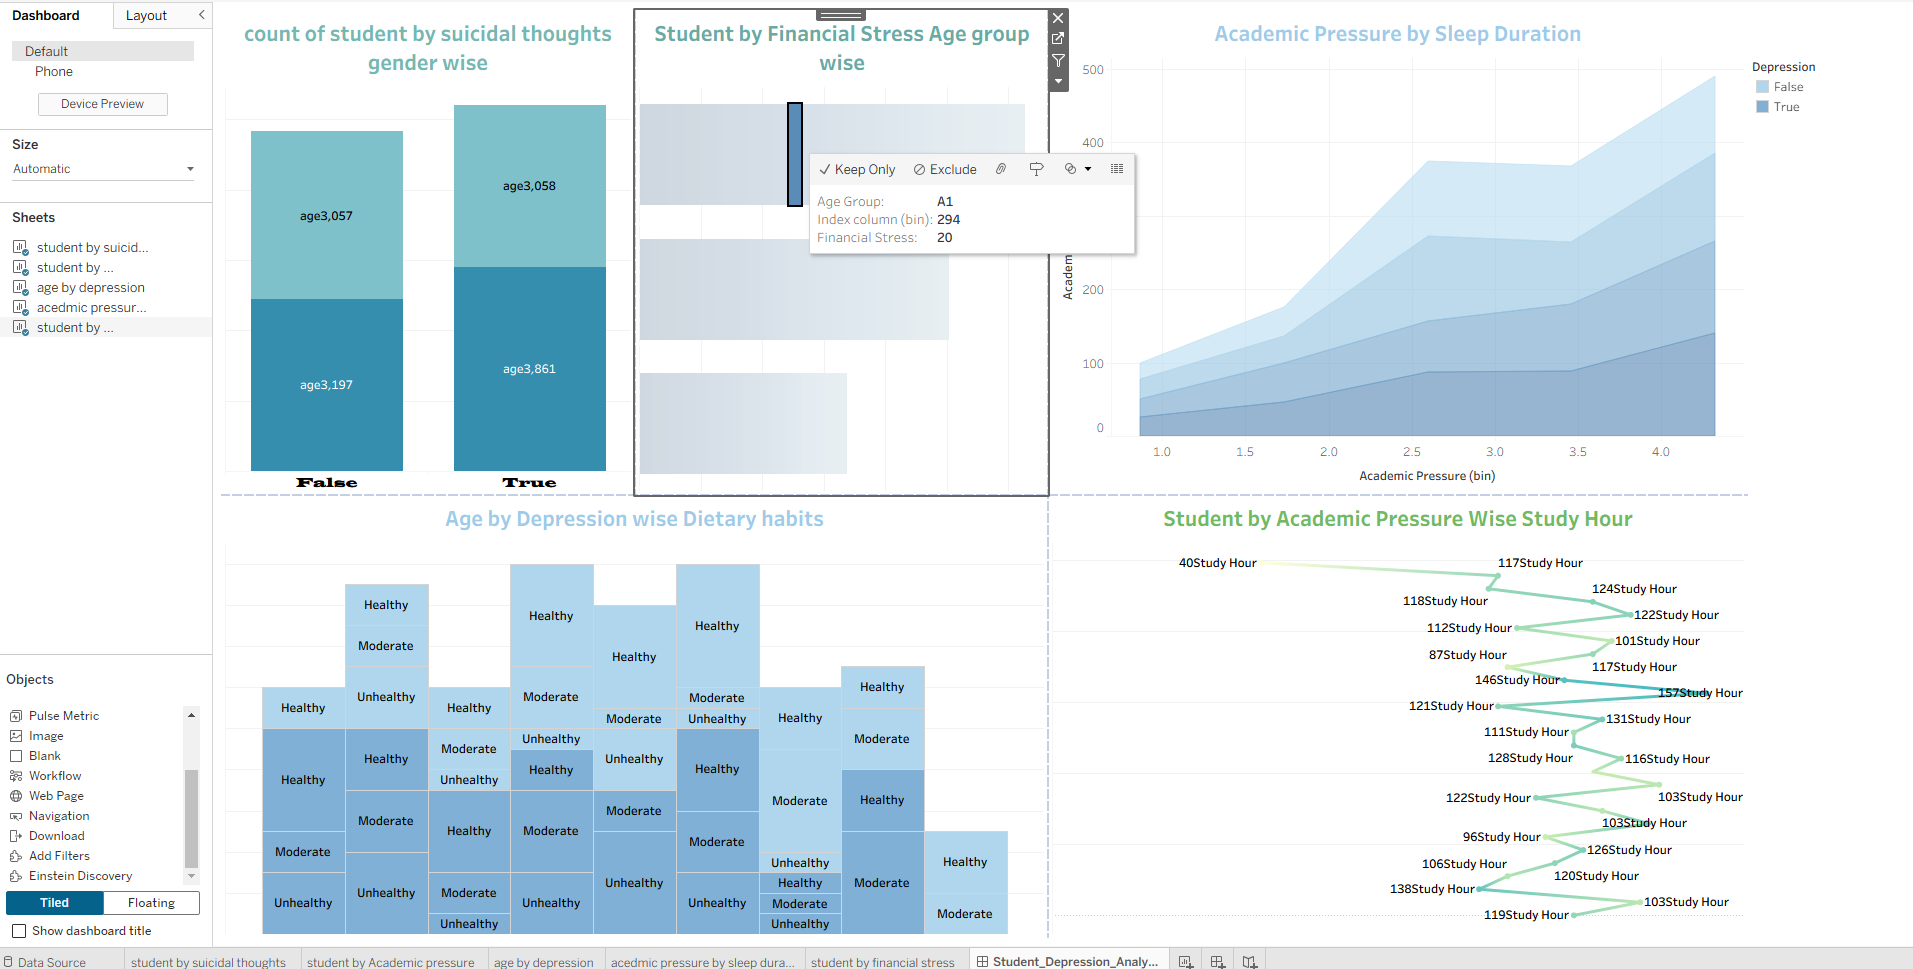

This screenshot's page, from the dashboard's own definition file:
{"tool":"tableau","page":{"name":"Student_Depression_Analysis","canvas":[1000,1000],"units":"permille","ordinal":0},"visuals":[{"type":"worksheet","title":"student by suicidal thoughts","mark":"Bar","rows":["Index_column"],"cols":["Have_you_ever_had_suicidal_thoughts"],"box":[4.7,8.5,243.3,513.8]},{"type":"worksheet","title":"student by financial stress","mark":"Automatic","rows":["Age_Group"],"cols":["Financial_Stress"],"box":[248,8.5,243.3,513.8]},{"type":"worksheet","title":"acedmic pressure by sleep duration","mark":"Area","rows":["Academic_Pressure"],"cols":["Academic Pressure (bin)"],"box":[491.3,8.5,411.6,513.8]},{"type":"legend","title":"student by suicidal thoughts","param":"[federated.00mcdja1831qk419nc62b09ihwin].[cnt:Gender:qk]","box":[902.9,8.5,92.4,23.3]},{"type":"legend","title":"student by Academic pressure","param":"[federated.00mcdja1831qk419nc62b09ihwin].[none:Gender:nk]","box":[902.9,31.8,92.4,23.3]},{"type":"legend","title":"age by depression","param":"[federated.00mcdja1831qk419nc62b09ihwin].[none:Depression:nk]","box":[902.9,55.1,92.4,69.9]},{"type":"worksheet","title":"age by depression","mark":"Automatic","rows":["Age"],"cols":["Age (bin)"],"box":[4.7,522.2,486.6,469.3]},{"type":"worksheet","title":"student by Academic pressure","mark":"Line","rows":["Index column (bin)"],"cols":["Academic_Pressure"],"box":[491.3,522.2,411.6,469.3]}]}

Visuals, with their boxes on the dashboard's canvas, which has no fixed pixel size, in thousandths of its width and height (x1, y1, x2, y2). These are canvas units, not pixel positions in the 1913x969 screenshot, which may show the page scaled, cropped or inside an application window:
"student by suicidal thoughts" worksheet (Bar marks): (left=5, top=8, right=248, bottom=522)
"student by financial stress" worksheet: (left=248, top=8, right=491, bottom=522)
"acedmic pressure by sleep duration" worksheet (Area marks): (left=491, top=8, right=903, bottom=522)
"student by suicidal thoughts" legend: (left=903, top=8, right=995, bottom=32)
"student by Academic pressure" legend: (left=903, top=32, right=995, bottom=55)
"age by depression" legend: (left=903, top=55, right=995, bottom=125)
"age by depression" worksheet: (left=5, top=522, right=491, bottom=992)
"student by Academic pressure" worksheet (Line marks): (left=491, top=522, right=903, bottom=992)
